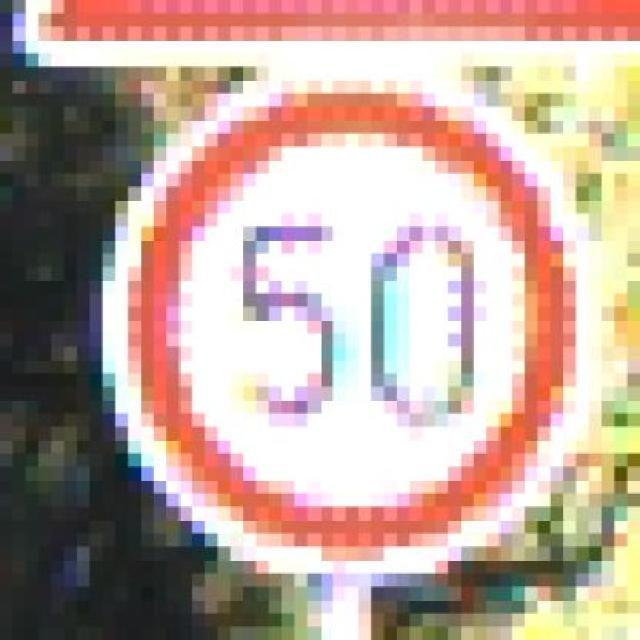Speed limit 50: (111, 81, 580, 567)
